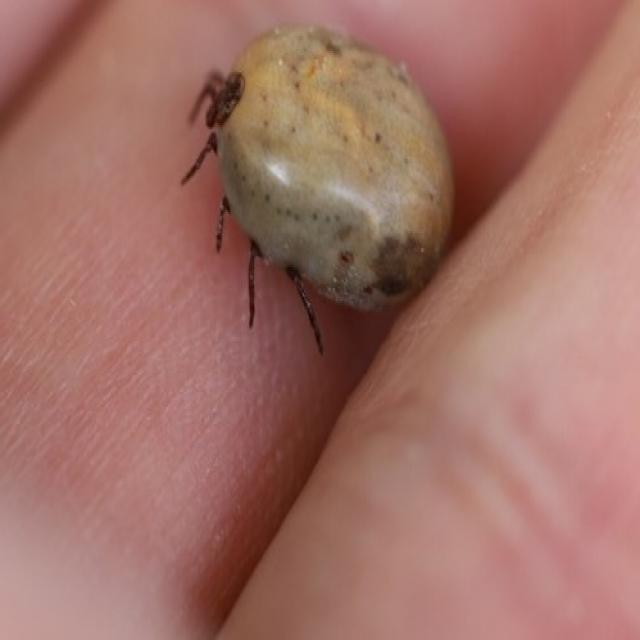Dermacentor Reticulatus-F-Fed: (178, 25, 454, 356)
